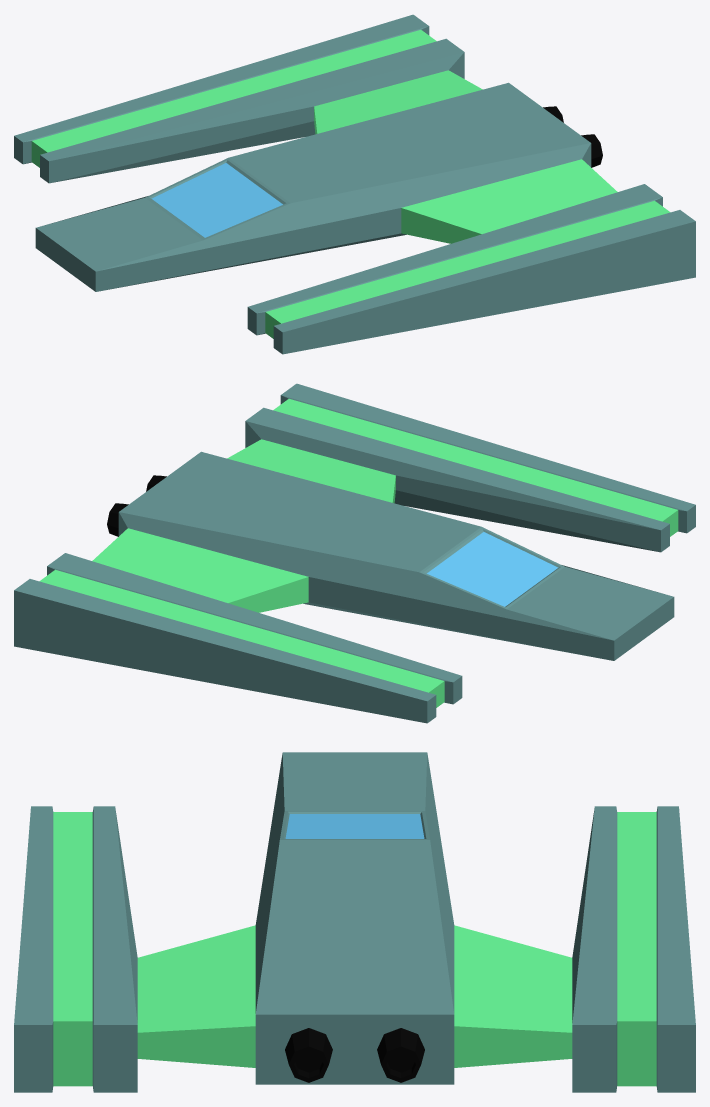
Rendered from fighter1.fbx.
3 views of the same model, one above another, from view 1: azimuth 30°, elevation 25°; view 2: azimuth 150°, elevation 25°; view 3: azimuth 270°, elevation 25° (orthographic). The views are drawn at different scales.
Visible parts, largest first — view 1: Fighter; view 2: Fighter; view 3: Fighter.
Part boxes in pixels (<box>): Fighter: <box>14,14,695,354</box>; Fighter: <box>14,383,695,723</box>; Fighter: <box>14,752,695,1092</box>.
Bounding box in the file's own units: 552 × 67.88 × 530.
